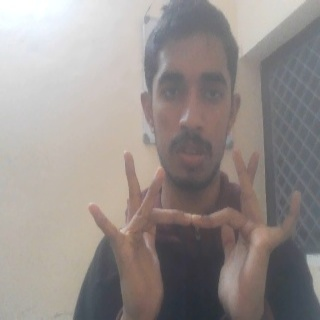Internet: (86, 143, 302, 320)
